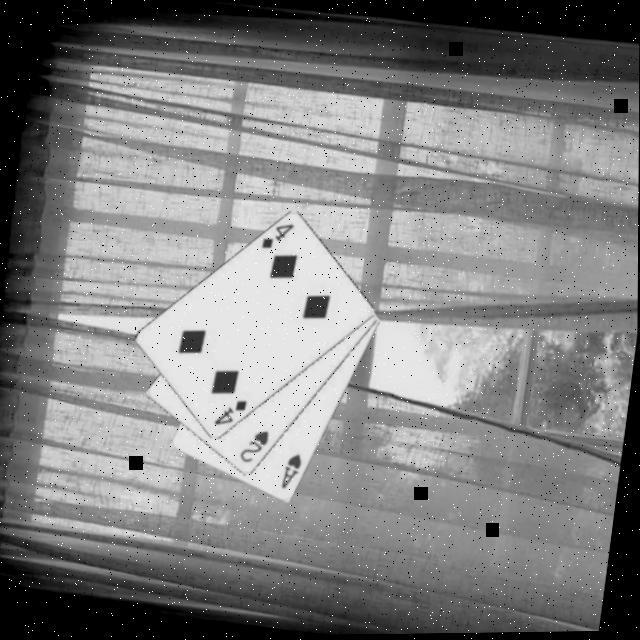2H: (235, 426, 272, 470)
4D: (209, 396, 249, 434), (256, 220, 296, 256)
AH: (278, 450, 304, 494)
